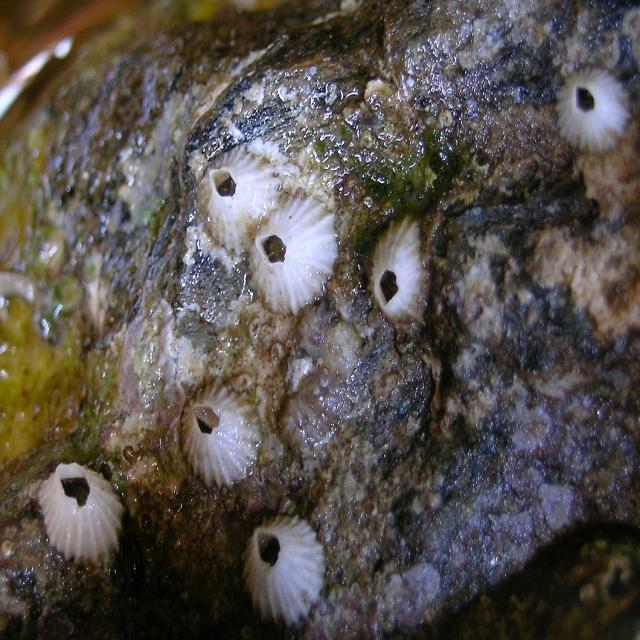barnacles: (27, 440, 137, 576), (224, 512, 335, 633), (177, 381, 266, 501), (362, 205, 433, 350), (247, 199, 336, 312), (552, 59, 630, 160), (190, 148, 274, 234)
